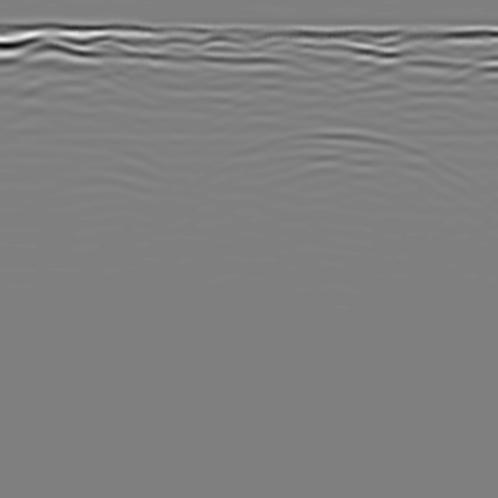hyperbola: (186, 105, 472, 220)
